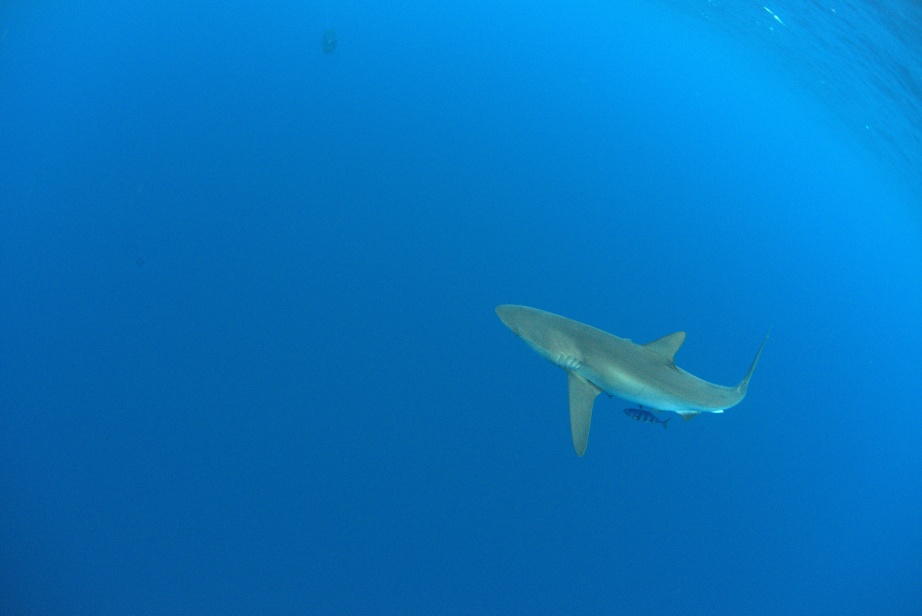Sedoso: (483, 277, 783, 468)
